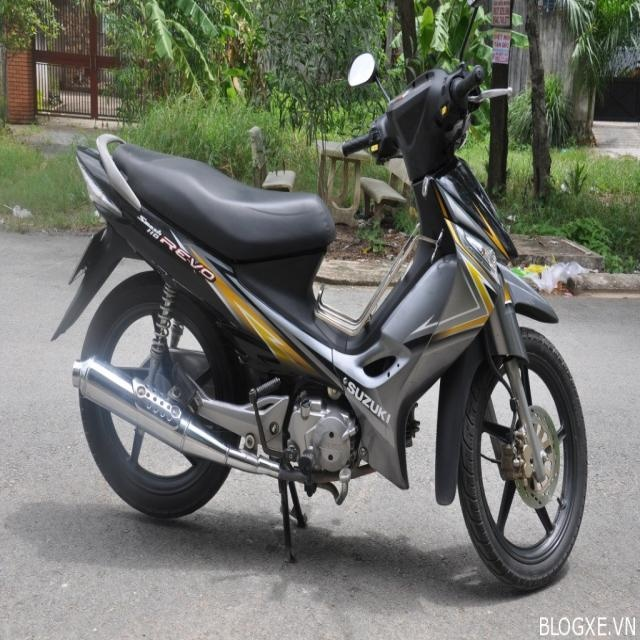Motorcycle: (46, 36, 596, 593)
